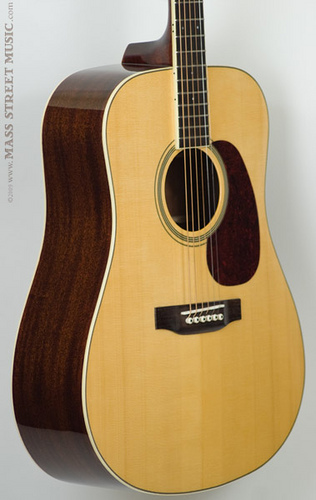guitar: (8, 1, 308, 495)
